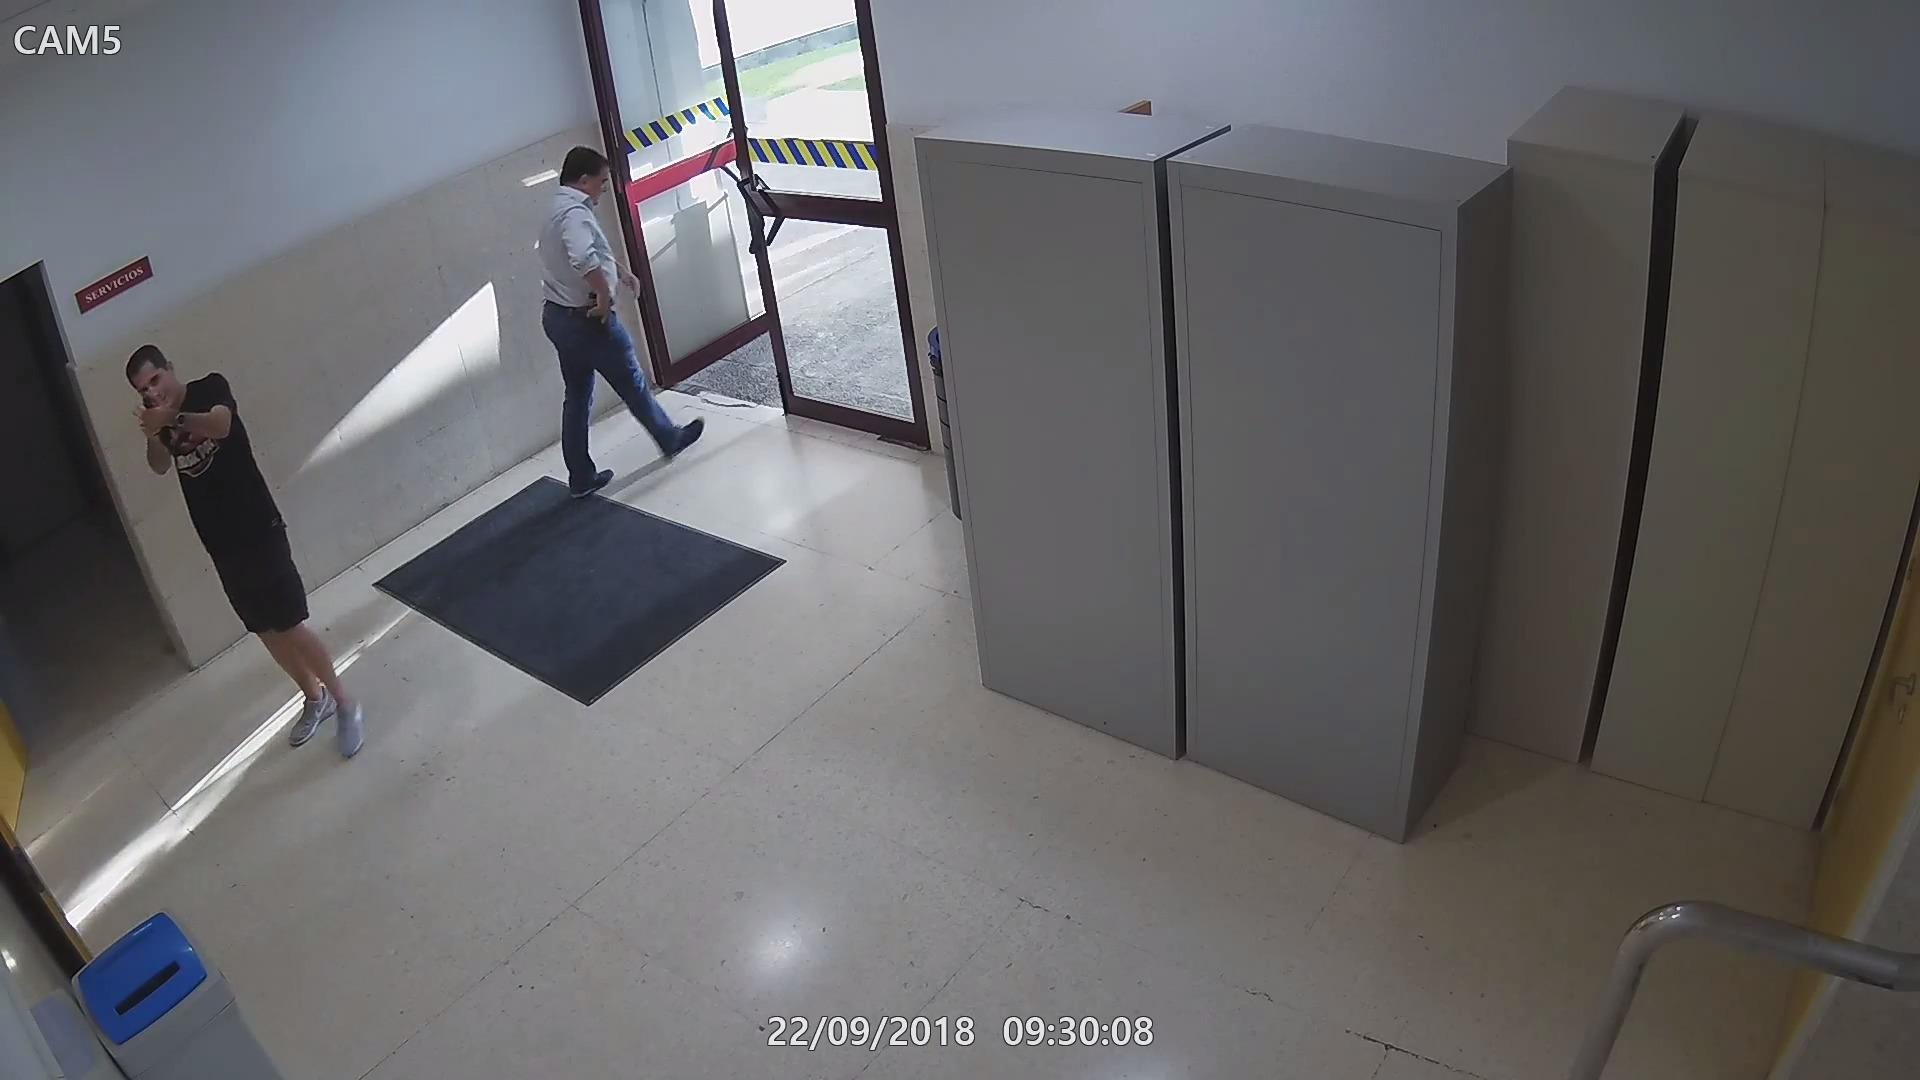Handgun: (132, 392, 171, 436), (587, 291, 618, 326)
